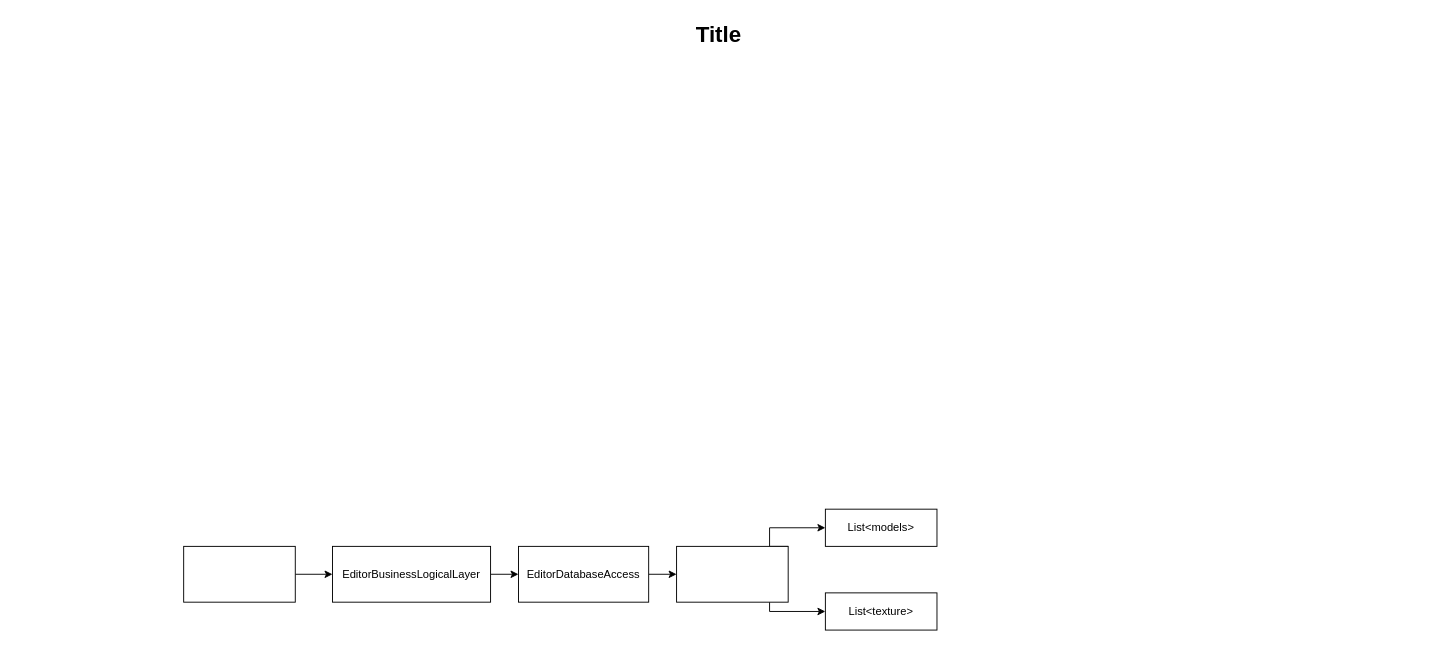
This 1436x646 diagram has some shape labels left out. The centre of each missing label's shape, as x and y in pixels:
Editor3d: point (239, 573)
EditorDatabase: point (732, 573)
